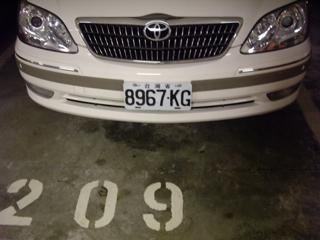plate: (121, 81, 193, 112)
